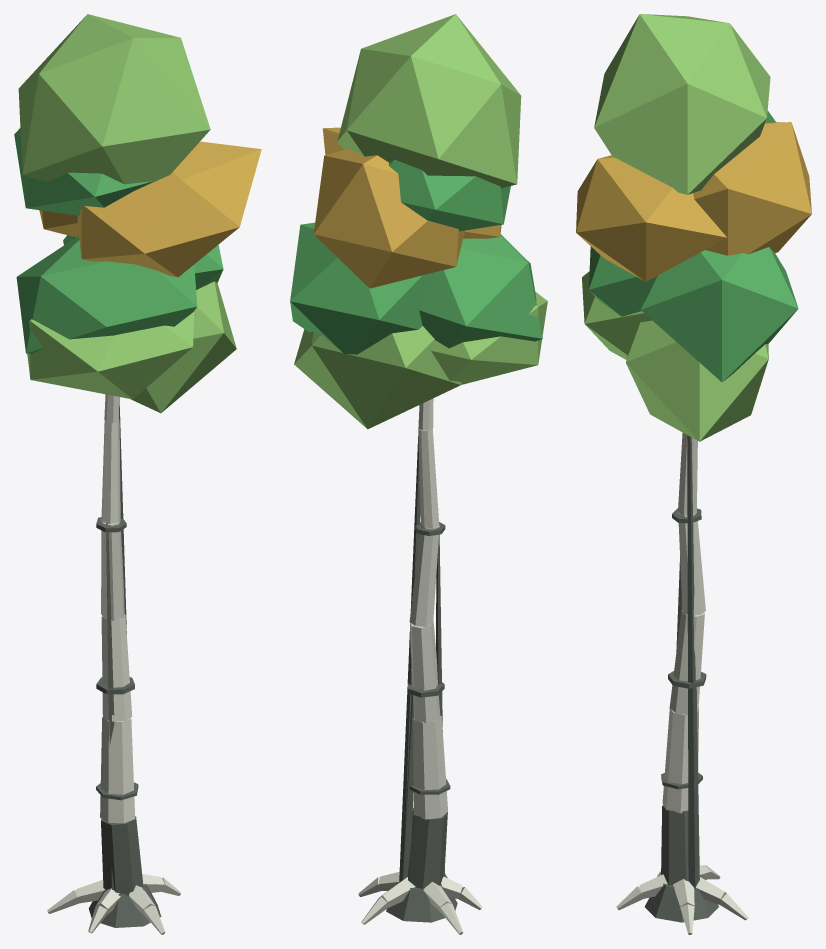
The model's file is tree_birch_a.glb.
The picture shows the model from 3 angles, left to right: view 1: azimuth 30°, elevation 25°; view 2: azimuth 150°, elevation 25°; view 3: azimuth 270°, elevation 25°; orthographic projection.
Parts seen in each view (by area): view 1: TreeBirchA; view 2: TreeBirchA; view 3: TreeBirchA.
Part boxes in pixels (x1,y1,x2,y2): TreeBirchA: (14,14,261,934); TreeBirchA: (290,14,547,934); TreeBirchA: (576,14,811,934).
Bounding box in the file's own units: 3.86 × 14.23 × 3.43.
